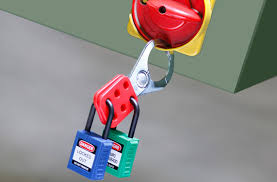hasp: (91, 34, 176, 129)
lock: (65, 96, 113, 178), (104, 91, 138, 178)
